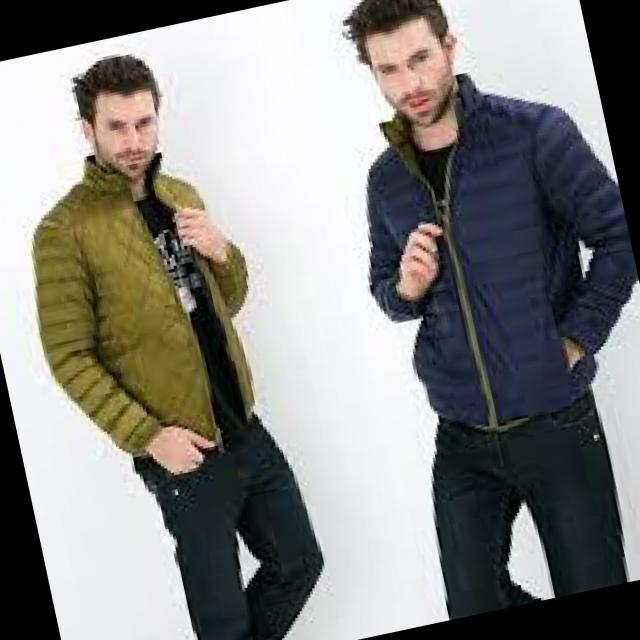Jacket: (314, 60, 640, 469), (4, 146, 306, 503)
